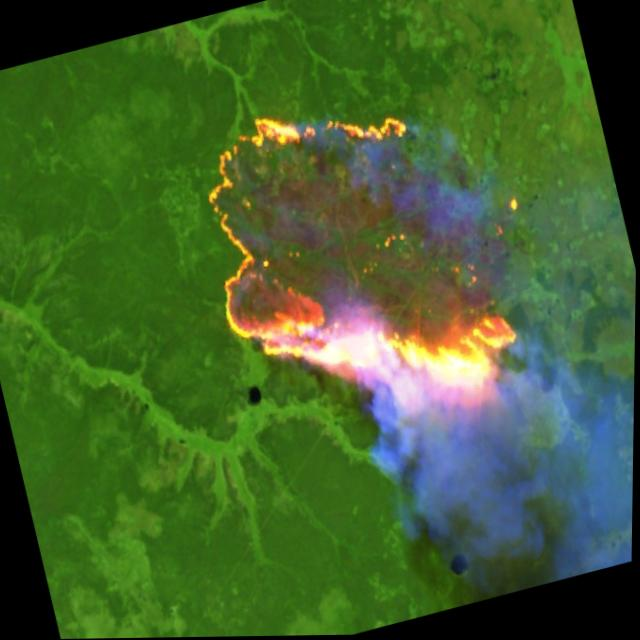fire: (171, 48, 574, 480)
